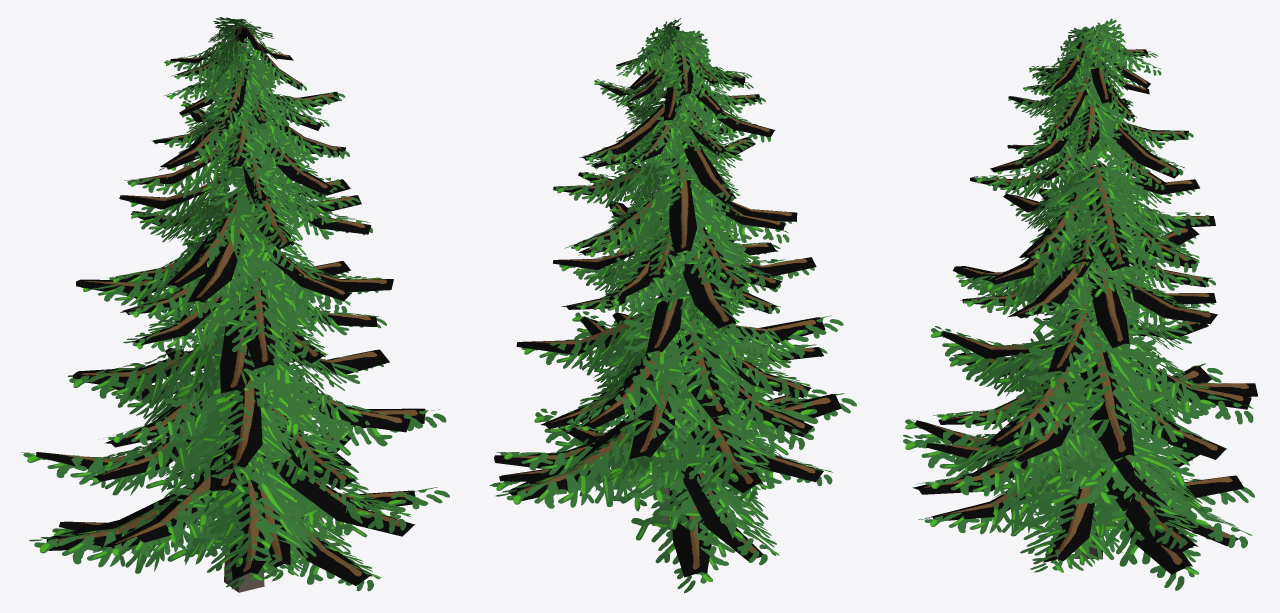
Rendered from shortTree.fbx.
3 views of the same model, side by side, from view 1: azimuth 30°, elevation 25°; view 2: azimuth 150°, elevation 25°; view 3: azimuth 270°, elevation 25° (orthographic). The views are drawn at different scales.
Visible parts, largest first — view 1: leaves.002, leaves.038, leaves.050, leaves.040, leaves.005, leaves.010, leaves.048, leaves.042, leaves.061, leaves.021, leaves.063, leaves.009 (+63 smaller); view 2: leaves.050, leaves.049, leaves.048, leaves.005, leaves, leaves.051, leaves.062, leaves.006, leaves.054, leaves.011, leaves.023, leaves.018 (+59 smaller); view 3: leaves.062, leaves.066, leaves.060, leaves.049, leaves.001, leaves.061, leaves.063, leaves.051, leaves.003, leaves.014, branch.062, leaves.038 (+63 smaller).
Part boxes in pixels (x1,y1,x2,y2): leaves.002: (174,455,329,588); leaves.038: (178,373,317,479); leaves.050: (67,333,222,408); leaves.040: (194,252,303,376); leaves.005: (29,500,229,573); leaves.010: (164,356,310,496); leaves.048: (21,440,210,495); leaves.042: (206,162,298,247); leaves.061: (224,445,410,536); leaves.021: (232,223,350,315); leaves.063: (248,356,386,428); leaves.009: (215,405,354,489); leaves.050: (624,298,742,421); leaves.049: (495,418,700,508); leaves.048: (630,383,775,500); leaves.005: (629,447,779,565); leaves: (613,441,764,593); leaves.051: (564,324,724,431); leaves.062: (521,309,655,375); leaves.006: (602,330,734,460); leaves.054: (629,158,720,250); leaves.011: (676,350,810,449); leaves.023: (649,208,750,295); leaves.018: (625,185,725,278); leaves.062: (1026,324,1160,461); leaves.066: (1047,166,1148,269); leaves.060: (1038,422,1200,590); leaves.049: (1059,433,1252,548); leaves.001: (1002,466,1125,572); leaves.061: (916,420,1107,498); leaves.063: (995,321,1138,446); leaves.051: (1110,334,1253,424); leaves.003: (1051,438,1197,549); leaves.014: (1026,264,1143,380); branch.062: (1080,323,1134,460); leaves.038: (930,326,1050,391).
Bounding box in the file's own units: 954 × 1452 × 920.
